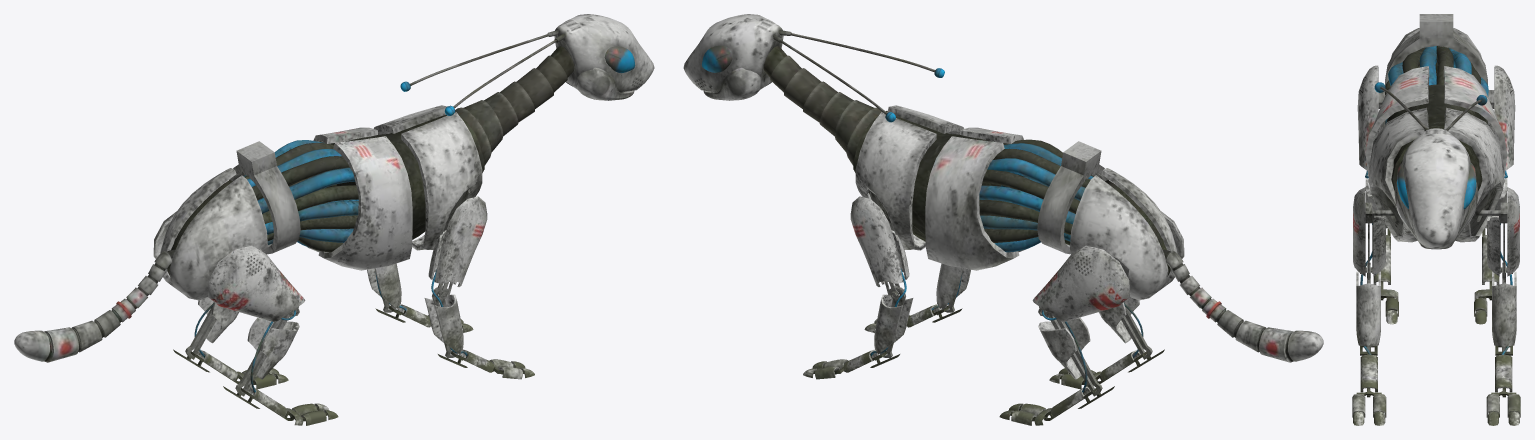
File: robotdog-transformed.glb
3 views of the same model, side by side, from view 1: azimuth 30°, elevation 25°; view 2: azimuth 150°, elevation 25°; view 3: azimuth 270°, elevation 25° (orthographic). The views are drawn at different scales.
Parts seen in each view (by area): view 1: OuterShellMid, OutherShellLower, OutherShellUpper, CableOuter_3, rb_ThighPlate, Neck, HeadBase, Tail, Clamp, rf_ThighPlate, InnerBodyUpper, rb_ForelegPlate (+8 smaller); view 2: OuterShellMid, OutherShellLower, OutherShellUpper, CableOuter_3, rb_ThighPlate.001, Neck, HeadBase, Tail, Clamp, rf_ThighPlate.001, InnerBodyUpper, rb_ForelegPlate.001 (+8 smaller); view 3: OutherShellUpper, HeadBase, OuterShellMid, Clamp, CableOuter_3, rf_ThighPlate, rf_ThighPlate.001, InnerBodyUpper, rf_ForelegPlate.001, rf_ForelegPlate, rb_ThighPlate.001, rb_ThighPlate (+21 smaller).
Part boxes in pixels (x1=…): OuterShellMid: x1=307, y1=127, x2=412, y2=270; OutherShellLower: x1=160, y1=168, x2=267, y2=300; OutherShellUpper: x1=373, y1=105, x2=482, y2=250; CableOuter_3: x1=243, y1=140, x2=358, y2=252; rb_ThighPlate: x1=208, y1=245, x2=305, y2=321; Neck: x1=455, y1=46, x2=574, y2=165; HeadBase: x1=554, y1=14, x2=654, y2=92; Tail: x1=14, y1=249, x2=175, y2=362; Clamp: x1=229, y1=141, x2=300, y2=254; rf_ThighPlate: x1=428, y1=196, x2=487, y2=286; InnerBodyUpper: x1=330, y1=115, x2=484, y2=239; rb_ForelegPlate: x1=247, y1=317, x2=299, y2=379; OuterShellMid: x1=925, y1=127, x2=1026, y2=270; OutherShellLower: x1=1070, y1=168, x2=1177, y2=300; OutherShellUpper: x1=855, y1=105, x2=964, y2=250; CableOuter_3: x1=979, y1=139, x2=1093, y2=252; rb_ThighPlate.001: x1=1032, y1=245, x2=1129, y2=321; Neck: x1=763, y1=46, x2=882, y2=165; HeadBase: x1=683, y1=14, x2=783, y2=92; Tail: x1=1162, y1=249, x2=1323, y2=362; Clamp: x1=1037, y1=141, x2=1108, y2=254; rf_ThighPlate.001: x1=850, y1=196, x2=909, y2=286; InnerBodyUpper: x1=853, y1=111, x2=1004, y2=241; rb_ForelegPlate.001: x1=1038, y1=317, x2=1090, y2=379; OutherShellUpper: x1=1368, y1=107, x2=1504, y2=242; HeadBase: x1=1402, y1=128, x2=1470, y2=248; OuterShellMid: x1=1365, y1=66, x2=1507, y2=177; Clamp: x1=1385, y1=14, x2=1487, y2=85; CableOuter_3: x1=1385, y1=46, x2=1491, y2=124; rf_ThighPlate: x1=1353, y1=187, x2=1385, y2=276; rf_ThighPlate.001: x1=1487, y1=187, x2=1519, y2=276; InnerBodyUpper: x1=1387, y1=84, x2=1485, y2=190; rf_ForelegPlate.001: x1=1492, y1=271, x2=1516, y2=346; rf_ForelegPlate: x1=1356, y1=271, x2=1380, y2=346; rb_ThighPlate.001: x1=1494, y1=65, x2=1515, y2=170; rb_ThighPlate: x1=1357, y1=65, x2=1378, y2=170.
Size of the model in its own units: 2 by 0.921 by 0.4205.
Materials: 1 (1 with a texture image).
